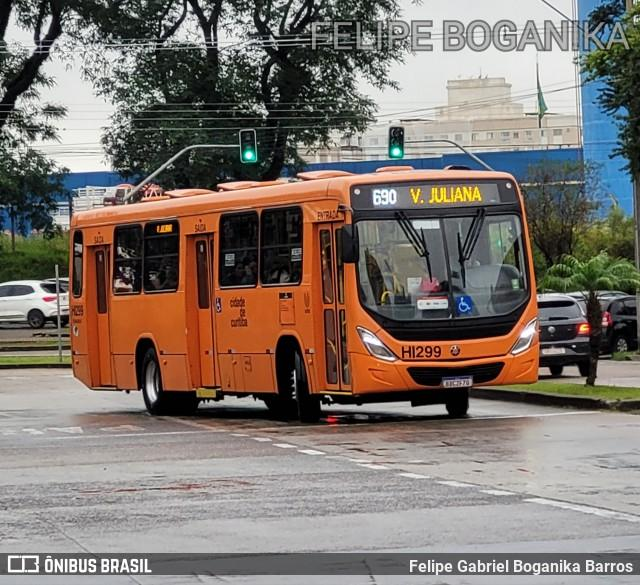V.JULIANA: (404, 184, 485, 208)
